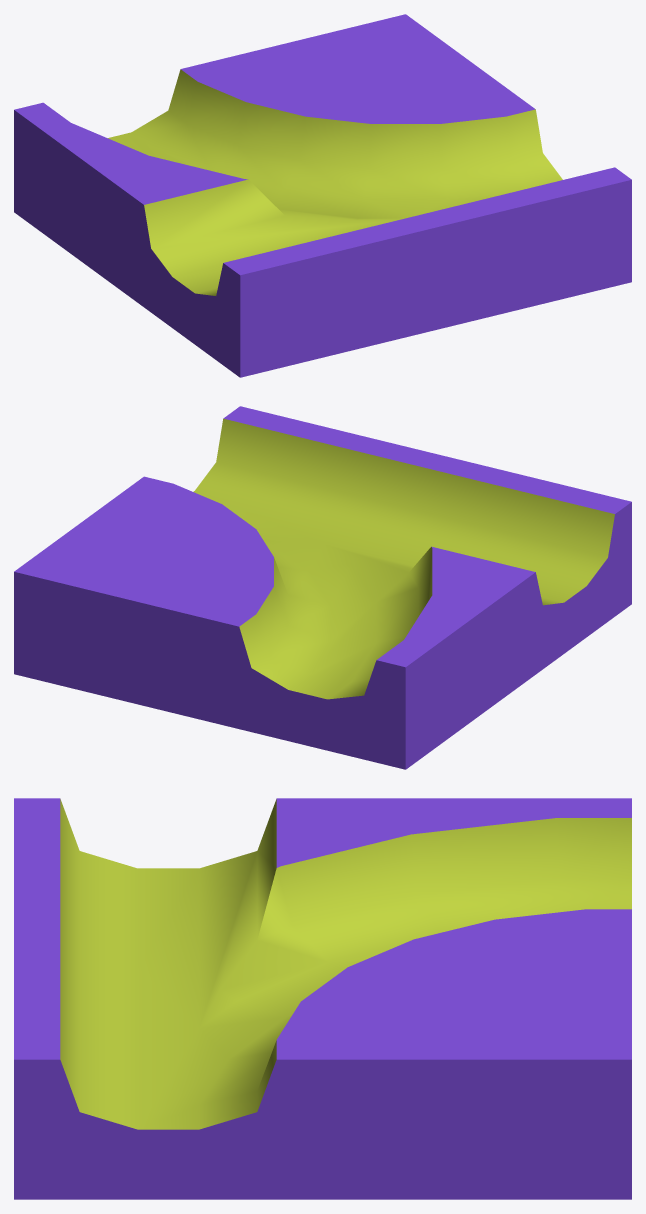
The model's file is split_solid_right-col.dae.
3 renders of one model, top to bottom at view 1: azimuth 30°, elevation 25°; view 2: azimuth 150°, elevation 25°; view 3: azimuth 270°, elevation 25°, orthographic. The views are drawn at different scales.
Parts seen in each view (by area): view 1: split_solid_right-col; view 2: split_solid_right-col; view 3: split_solid_right-col.
Boxes of the visible parts, bbox=[...] form: split_solid_right-col: bbox=[14, 14, 631, 377]; split_solid_right-col: bbox=[14, 406, 631, 769]; split_solid_right-col: bbox=[14, 798, 631, 1199].
Size of the model in its own units: 2 by 2 by 0.5.
